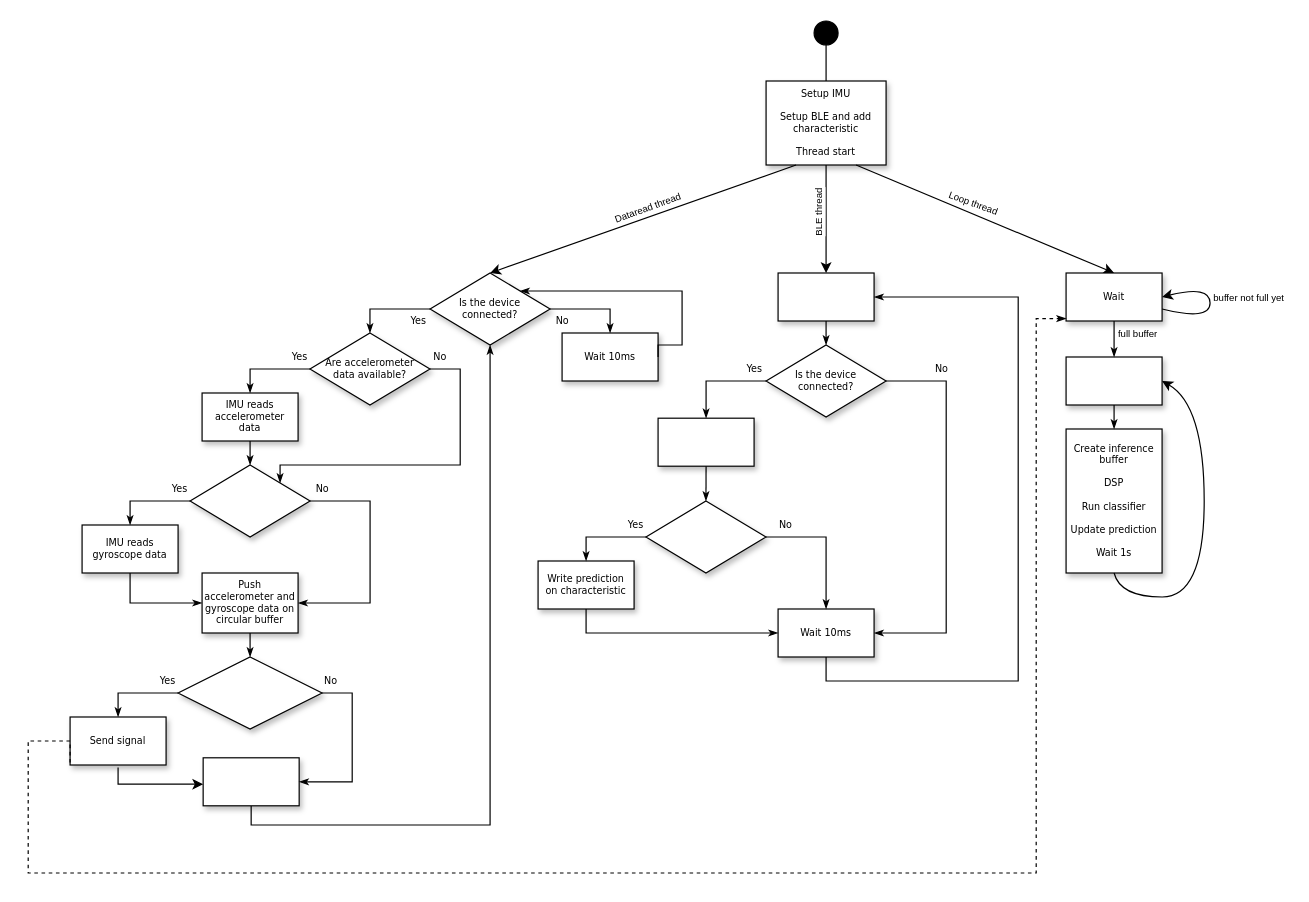
This 1309x902 diagram has some shape labels left out. Here are the shapes that lost their labels. From the top down, the centre of each, then its label:
point 826,298: BLE poll
point 1114,382: Initialize classifier
point 706,443: Write "unknown" on characteristic
point 250,502: Are gyroscope data availables?
point 706,538: Are there new data to be sent?
point 250,694: Is the buffer full for the first time ?
point 251,783: Wait 15 ms
